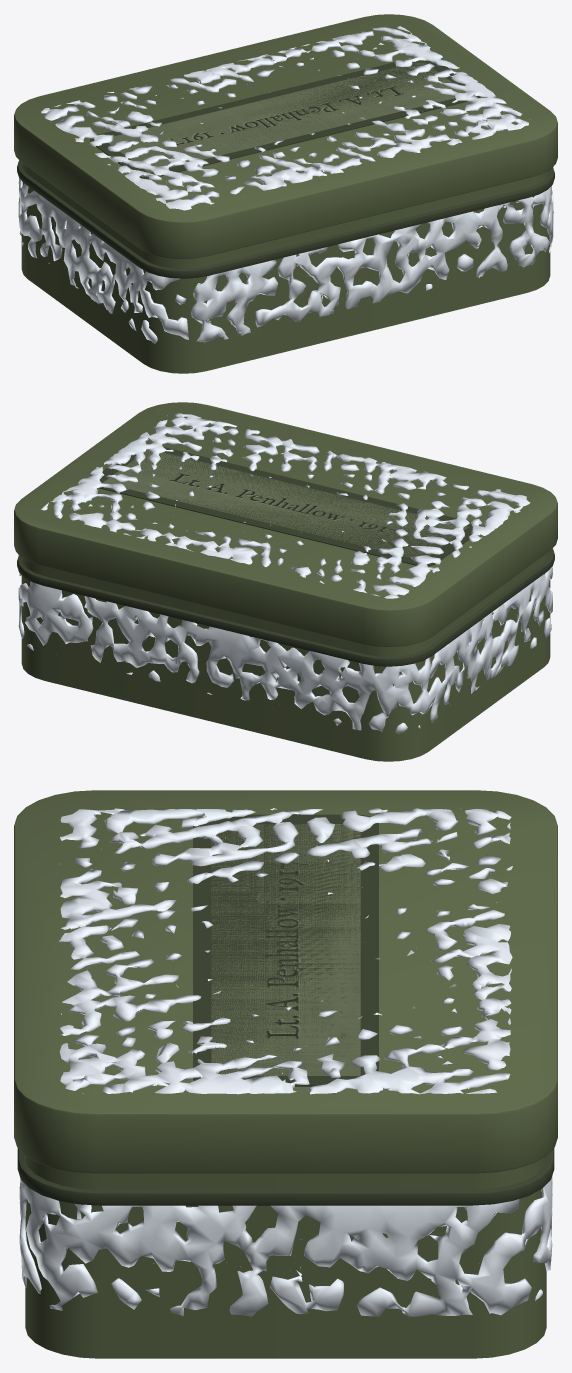
The model's file is frosted_tin.fbx.
The picture shows the model from 3 angles, top to bottom: view 1: azimuth 30°, elevation 25°; view 2: azimuth 150°, elevation 25°; view 3: azimuth 270°, elevation 25°; orthographic projection. The views are drawn at different scales.
Visible parts, largest first — view 1: Lid, frosted_tin; view 2: Lid, frosted_tin; view 3: Lid, frosted_tin.
Part boxes in pixels (left/top/right/bottom): Lid: left=14, top=14, right=557, bottom=258; frosted_tin: left=17, top=160, right=554, bottom=373; Lid: left=14, top=402, right=557, bottom=646; frosted_tin: left=17, top=548, right=554, bottom=761; Lid: left=14, top=790, right=557, bottom=1173; frosted_tin: left=17, top=1148, right=554, bottom=1358.
Bounding box in the file's own units: 0.206 × 0.0774 × 0.146.
